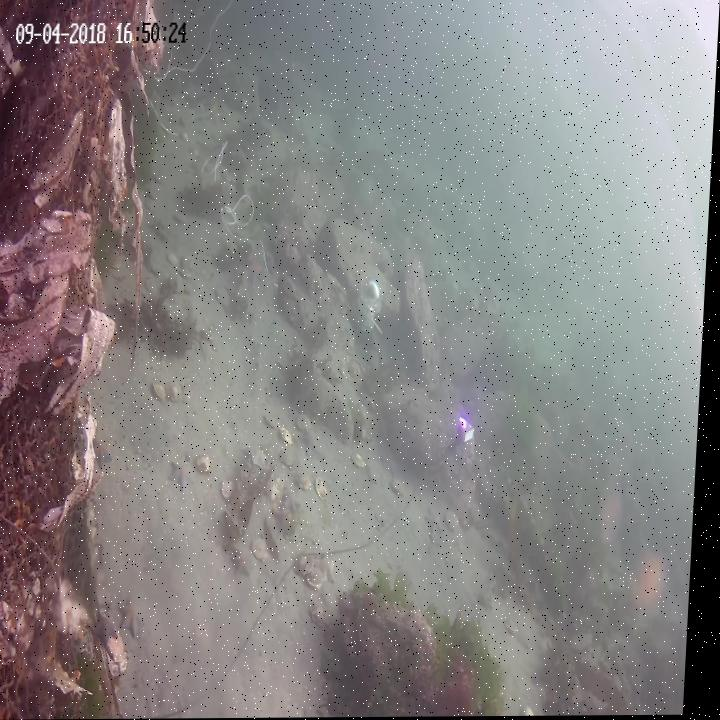scallop: (267, 475, 290, 507), (315, 598, 338, 628), (215, 282, 234, 313), (301, 553, 323, 578), (267, 409, 289, 434), (313, 562, 331, 592), (168, 378, 188, 405), (318, 476, 335, 507), (223, 476, 239, 506), (199, 451, 217, 477), (393, 473, 410, 500), (155, 381, 174, 405), (182, 255, 199, 281), (357, 451, 374, 475), (284, 424, 299, 450), (168, 248, 184, 272), (300, 476, 318, 496)
starfish: (634, 546, 682, 630), (602, 473, 635, 549), (123, 601, 149, 637), (173, 457, 199, 492), (93, 436, 118, 470), (277, 505, 301, 539), (247, 441, 274, 470), (303, 430, 329, 460), (101, 610, 124, 643), (236, 548, 258, 581), (249, 258, 269, 289), (429, 507, 450, 536), (323, 555, 343, 585)
